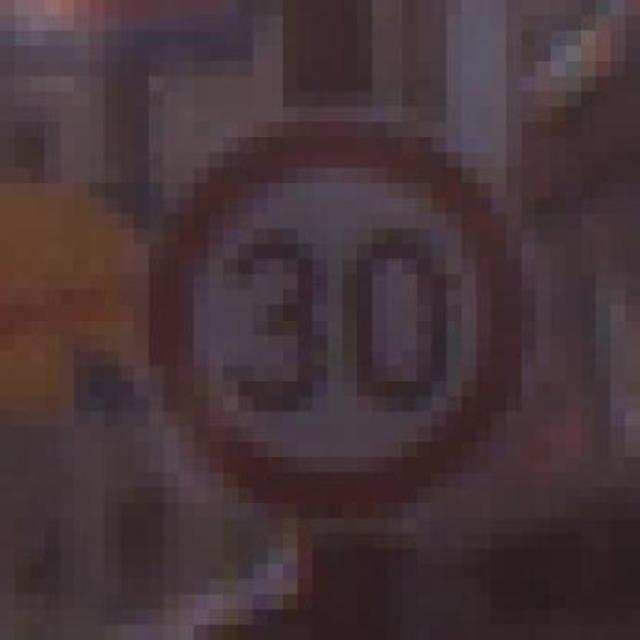Speed Limit 30 KMPh: (104, 122, 565, 549)
